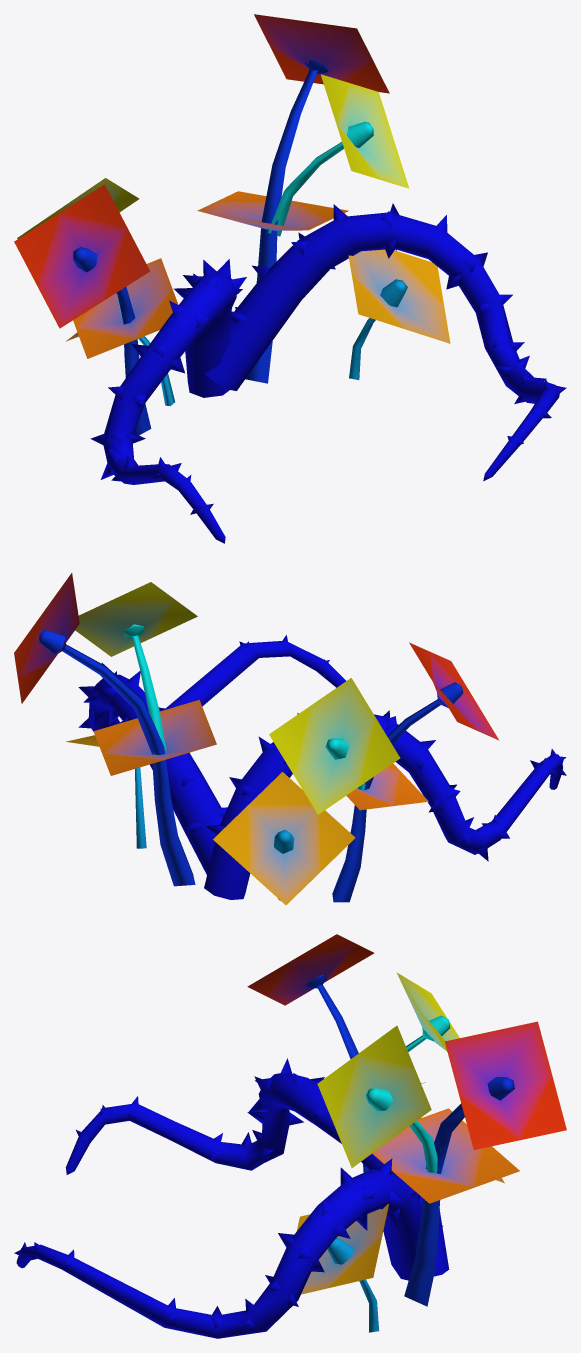
Rendered from ShrinkStatue_plants.dae.
3 renders of one model, top to bottom at view 1: azimuth 30°, elevation 25°; view 2: azimuth 150°, elevation 25°; view 3: azimuth 270°, elevation 25°, orthographic. The views are drawn at different scales.
Parts seen in each view (by area): view 1: polySurface127; view 2: polySurface127; view 3: polySurface127.
Part boxes in pixels (x1=…): polySurface127: x1=14, y1=14, x2=566, y2=543; polySurface127: x1=14, y1=573, x2=566, y2=904; polySurface127: x1=14, y1=934, x2=566, y2=1338.
Size of the model in its own units: 21.16 by 14.49 by 23.15.
